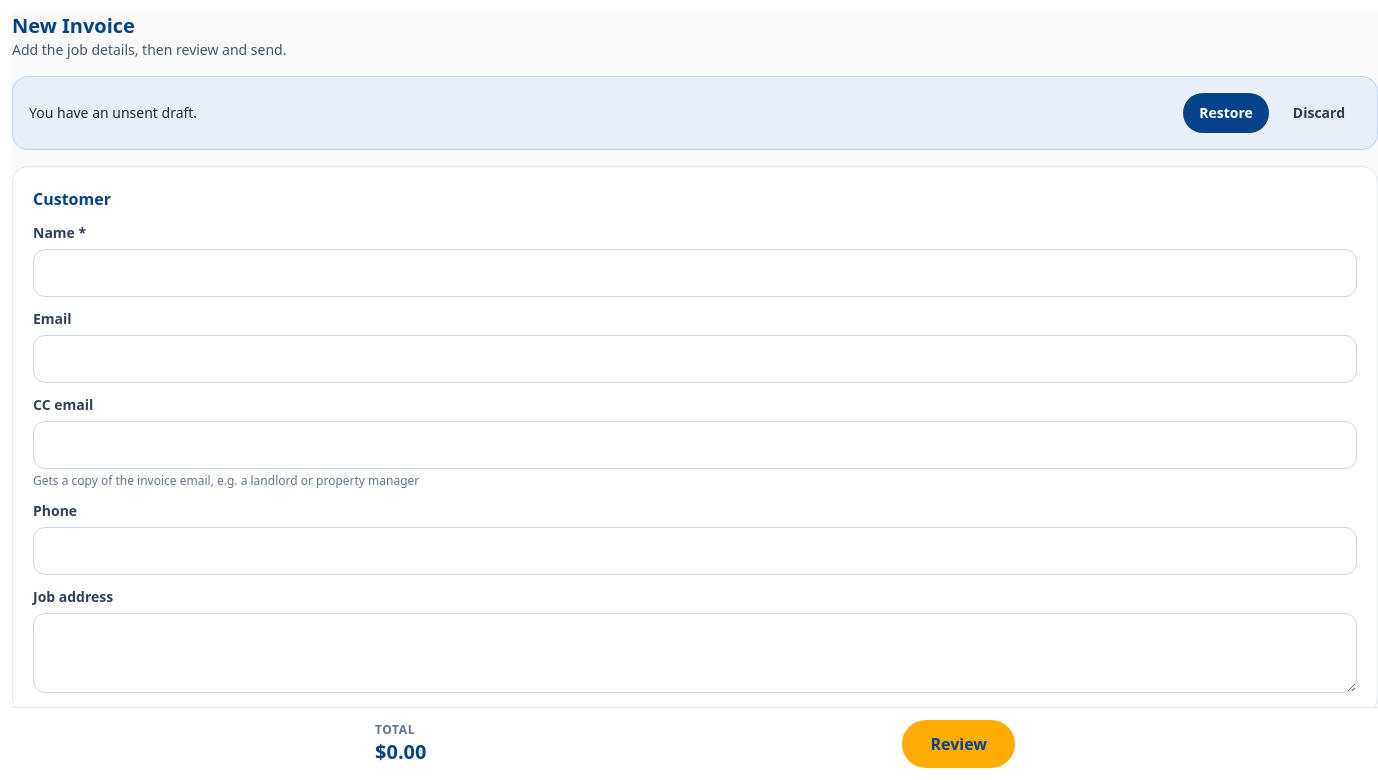
Test: InvoiceForm › offers to restore an unsent draft
Click the button "Restore".
click(1226, 113)  # box [1183, 93, 1269, 133]
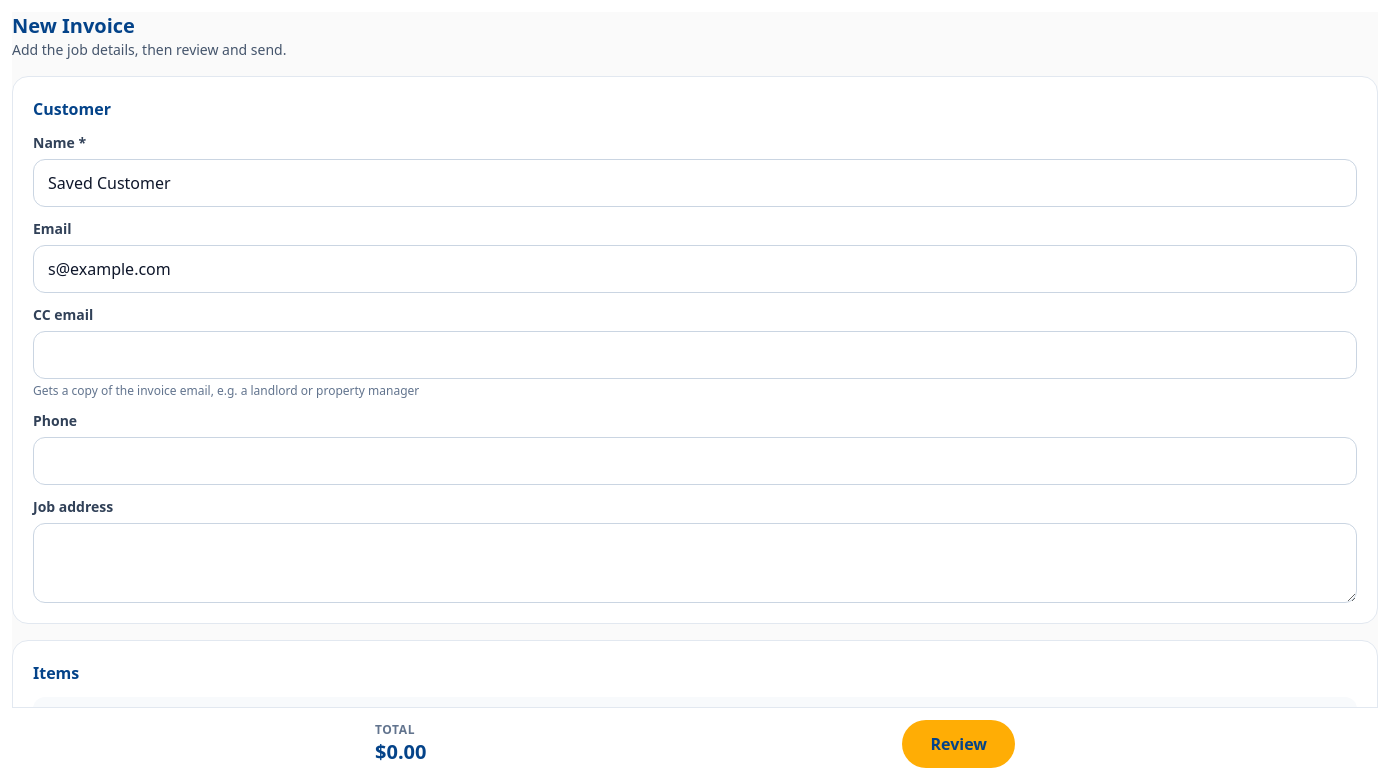
Check: the field labelled "Name *" holds "Saved Customer", box [33, 159, 1357, 207]
